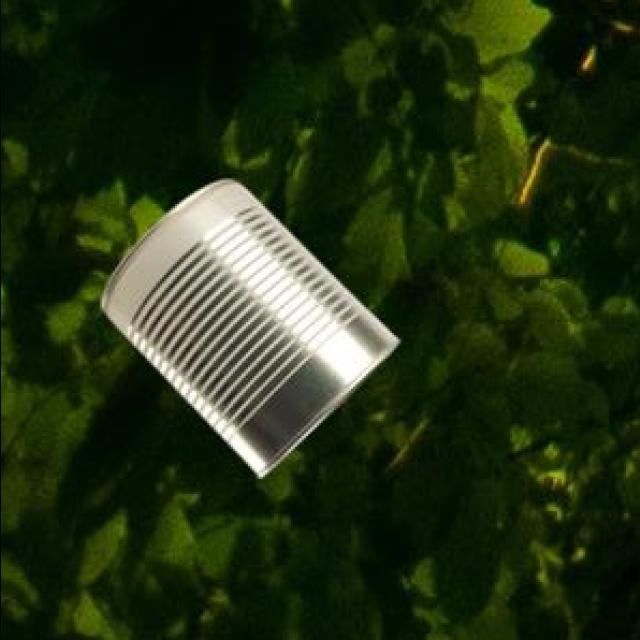logam: (104, 177, 401, 474)
